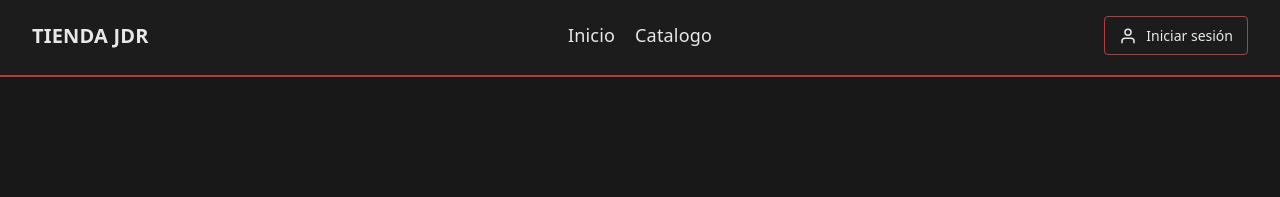
Test: Organismo Header › HEA-03: navega a la página de login al pulsar Iniciar sesión
Click the button "Iniciar sesión". click: (1176, 36)
box: [1104,16,1248,55]
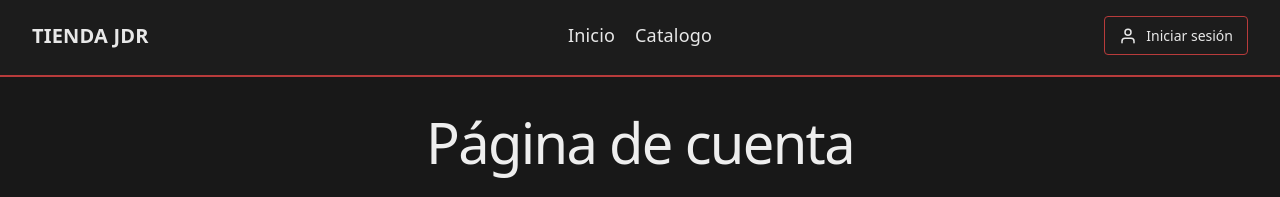
Expected: the heading "Página de cuenta" is shown, [426,104,854,180]
